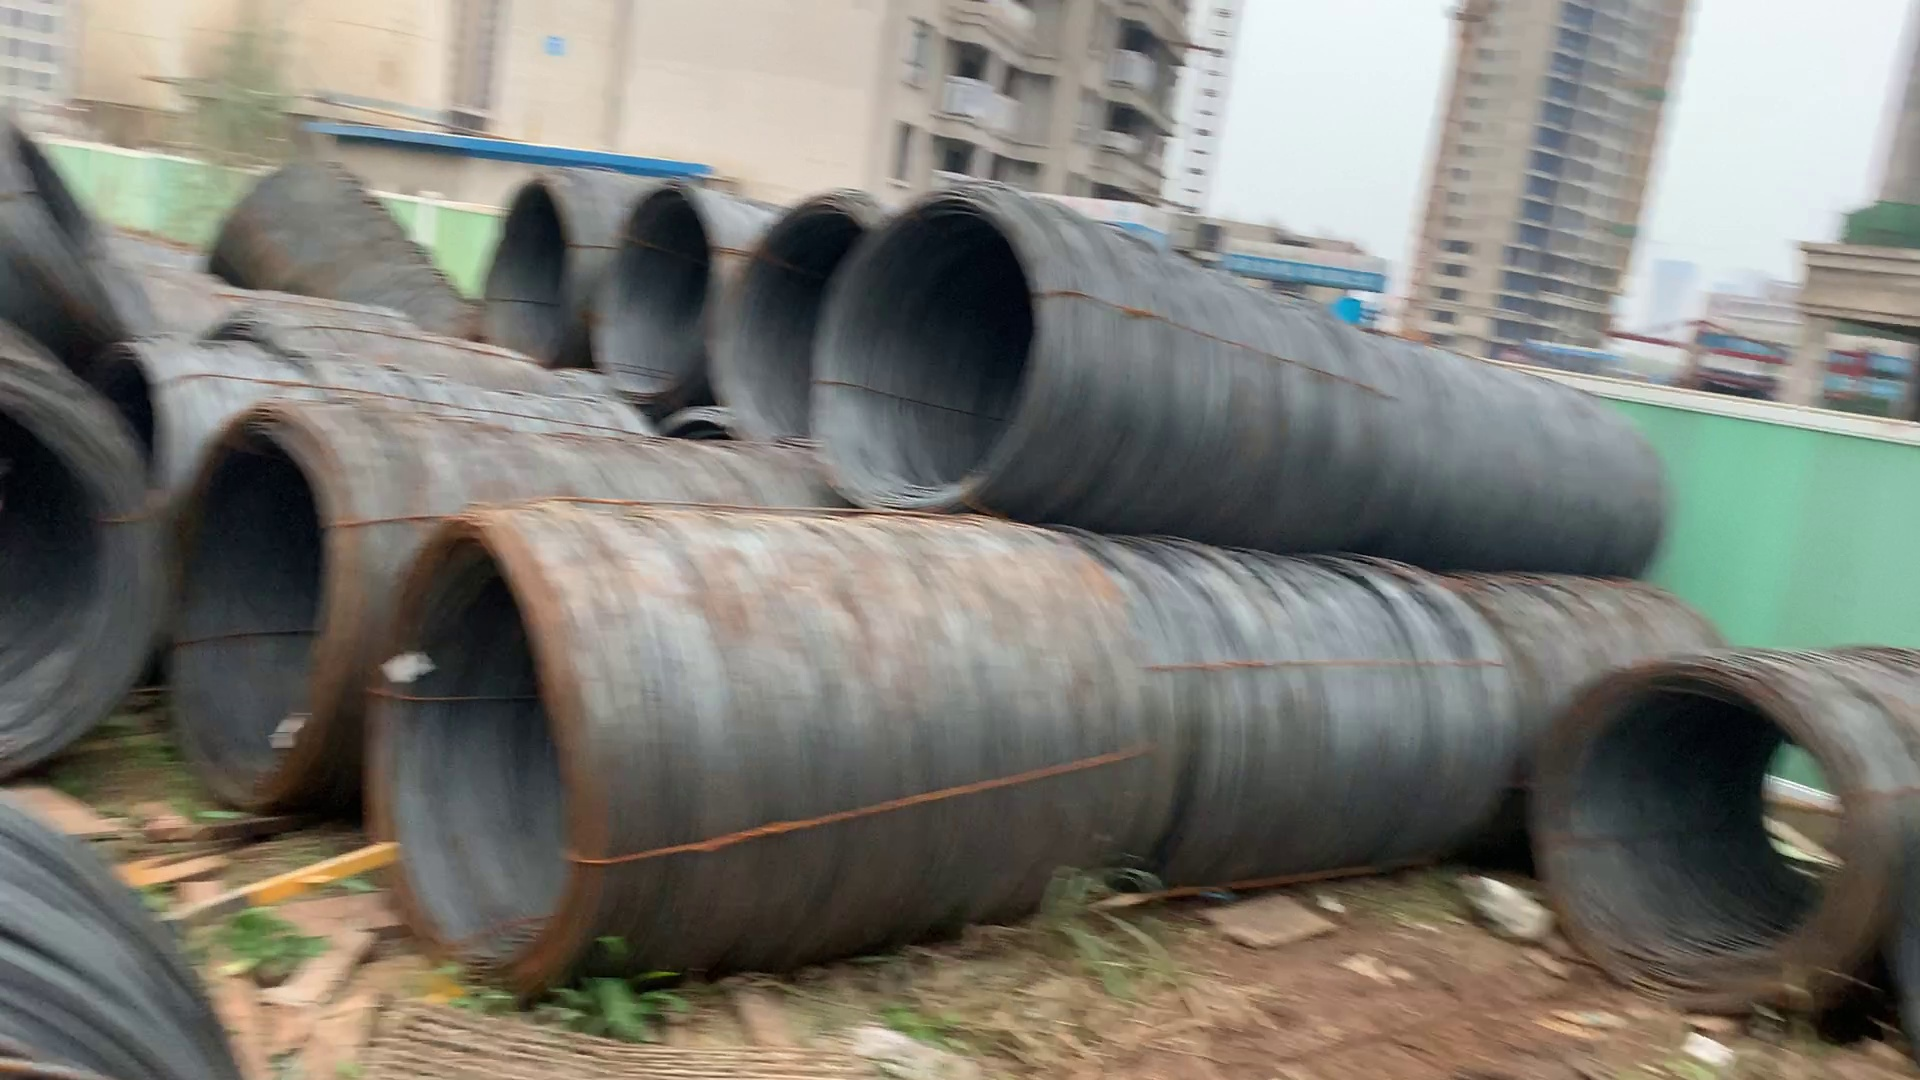coil: (1532, 654, 1865, 1015), (375, 513, 613, 982), (827, 191, 1054, 521), (1, 396, 174, 774), (164, 404, 340, 766), (1, 100, 164, 360), (717, 193, 877, 443), (599, 182, 724, 410), (463, 171, 596, 375)
